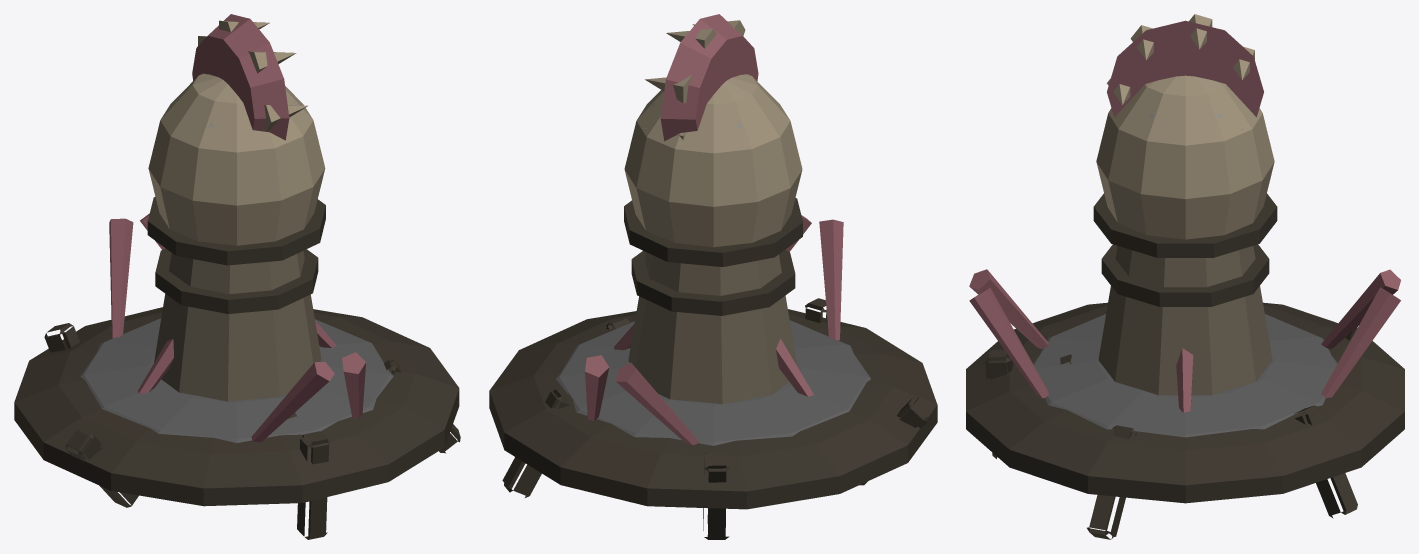
File: bl_tap.glb
3 renders of one model, left to right at view 1: azimuth 30°, elevation 25°; view 2: azimuth 150°, elevation 25°; view 3: azimuth 270°, elevation 25°, orthographic.
Visible parts, largest first — view 1: body; view 2: body; view 3: body.
Part boxes in pixels (<box>): body: <box>14,14,460,539</box>; body: <box>489,14,937,539</box>; body: <box>966,14,1404,539</box>.
Size of the model in its own units: 41.18 by 45.27 by 40.15.
